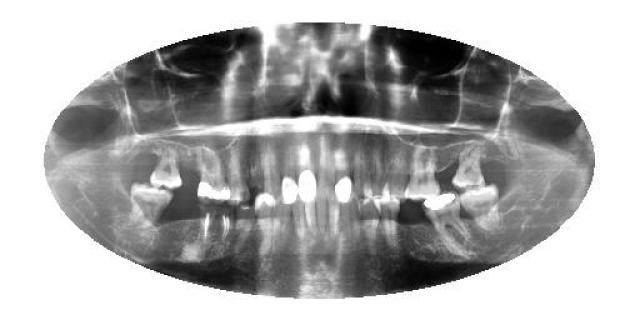Fillings: (424, 194, 468, 254), (199, 146, 230, 202), (296, 142, 318, 202), (334, 145, 351, 203), (282, 145, 298, 204)
Implant: (198, 204, 214, 245), (216, 204, 232, 241)
